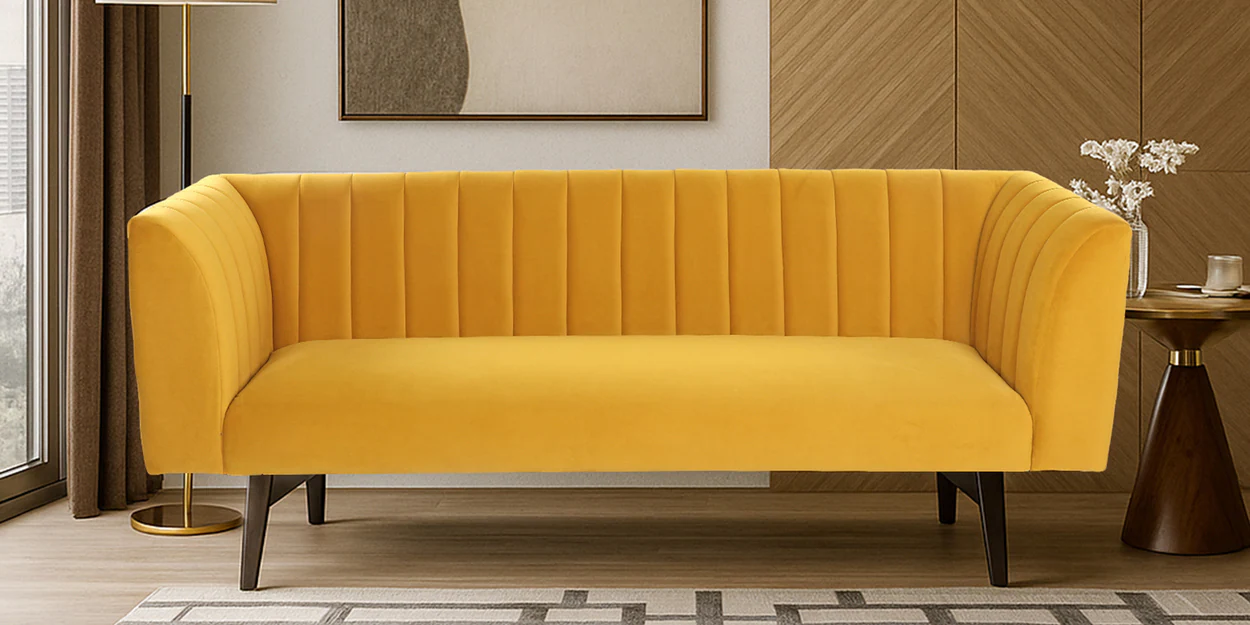3seatersofa: (129, 169, 1130, 588)
backrest: (226, 170, 1008, 346)
leftarmrest: (971, 172, 1128, 469)
leg: (240, 475, 324, 589), (939, 473, 1007, 586)
rightarmrest: (128, 175, 273, 473)
seat: (225, 336, 1031, 473)
